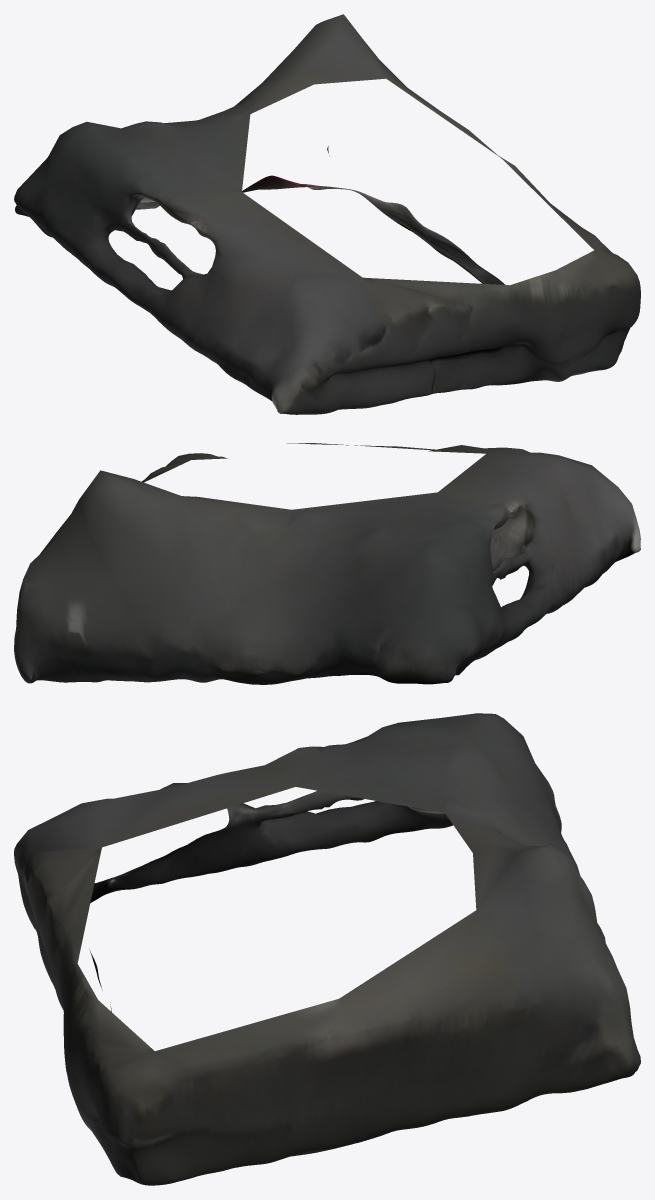
3 renders of one model, top to bottom at view 1: azimuth 30°, elevation 25°; view 2: azimuth 150°, elevation 25°; view 3: azimuth 270°, elevation 25°, orthographic. The views are drawn at different scales.
Size of the model in its own units: 0.6962 by 0.3543 by 0.7141.
1 material, 1 textured.
